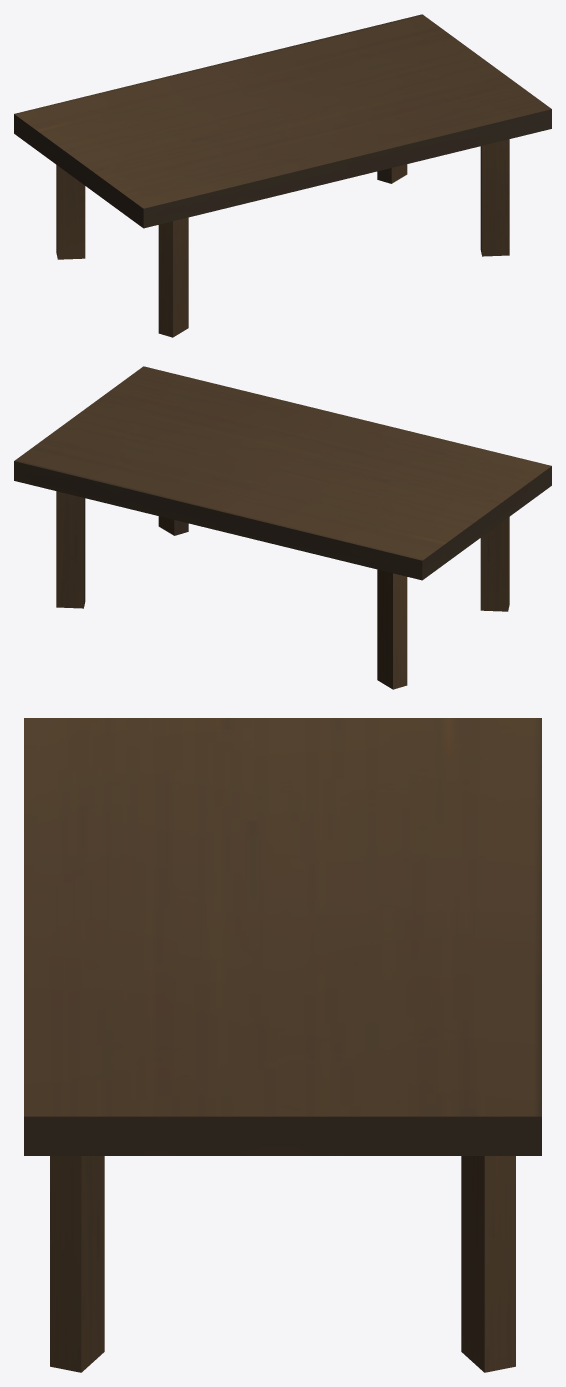
File: SK_Table_001.FBX
The picture shows the model from 3 angles, top to bottom: view 1: azimuth 30°, elevation 25°; view 2: azimuth 150°, elevation 25°; view 3: azimuth 270°, elevation 25°; orthographic projection. The views are drawn at different scales.
Visible parts, largest first — view 1: Box322; view 2: Box322; view 3: Box322.
Part boxes in pixels (x1,y1,x2,y2): Box322: (14, 14, 551, 337); Box322: (14, 366, 551, 689); Box322: (24, 718, 541, 1372).
Size of the model in its own units: 144 by 47.97 by 79.1.
